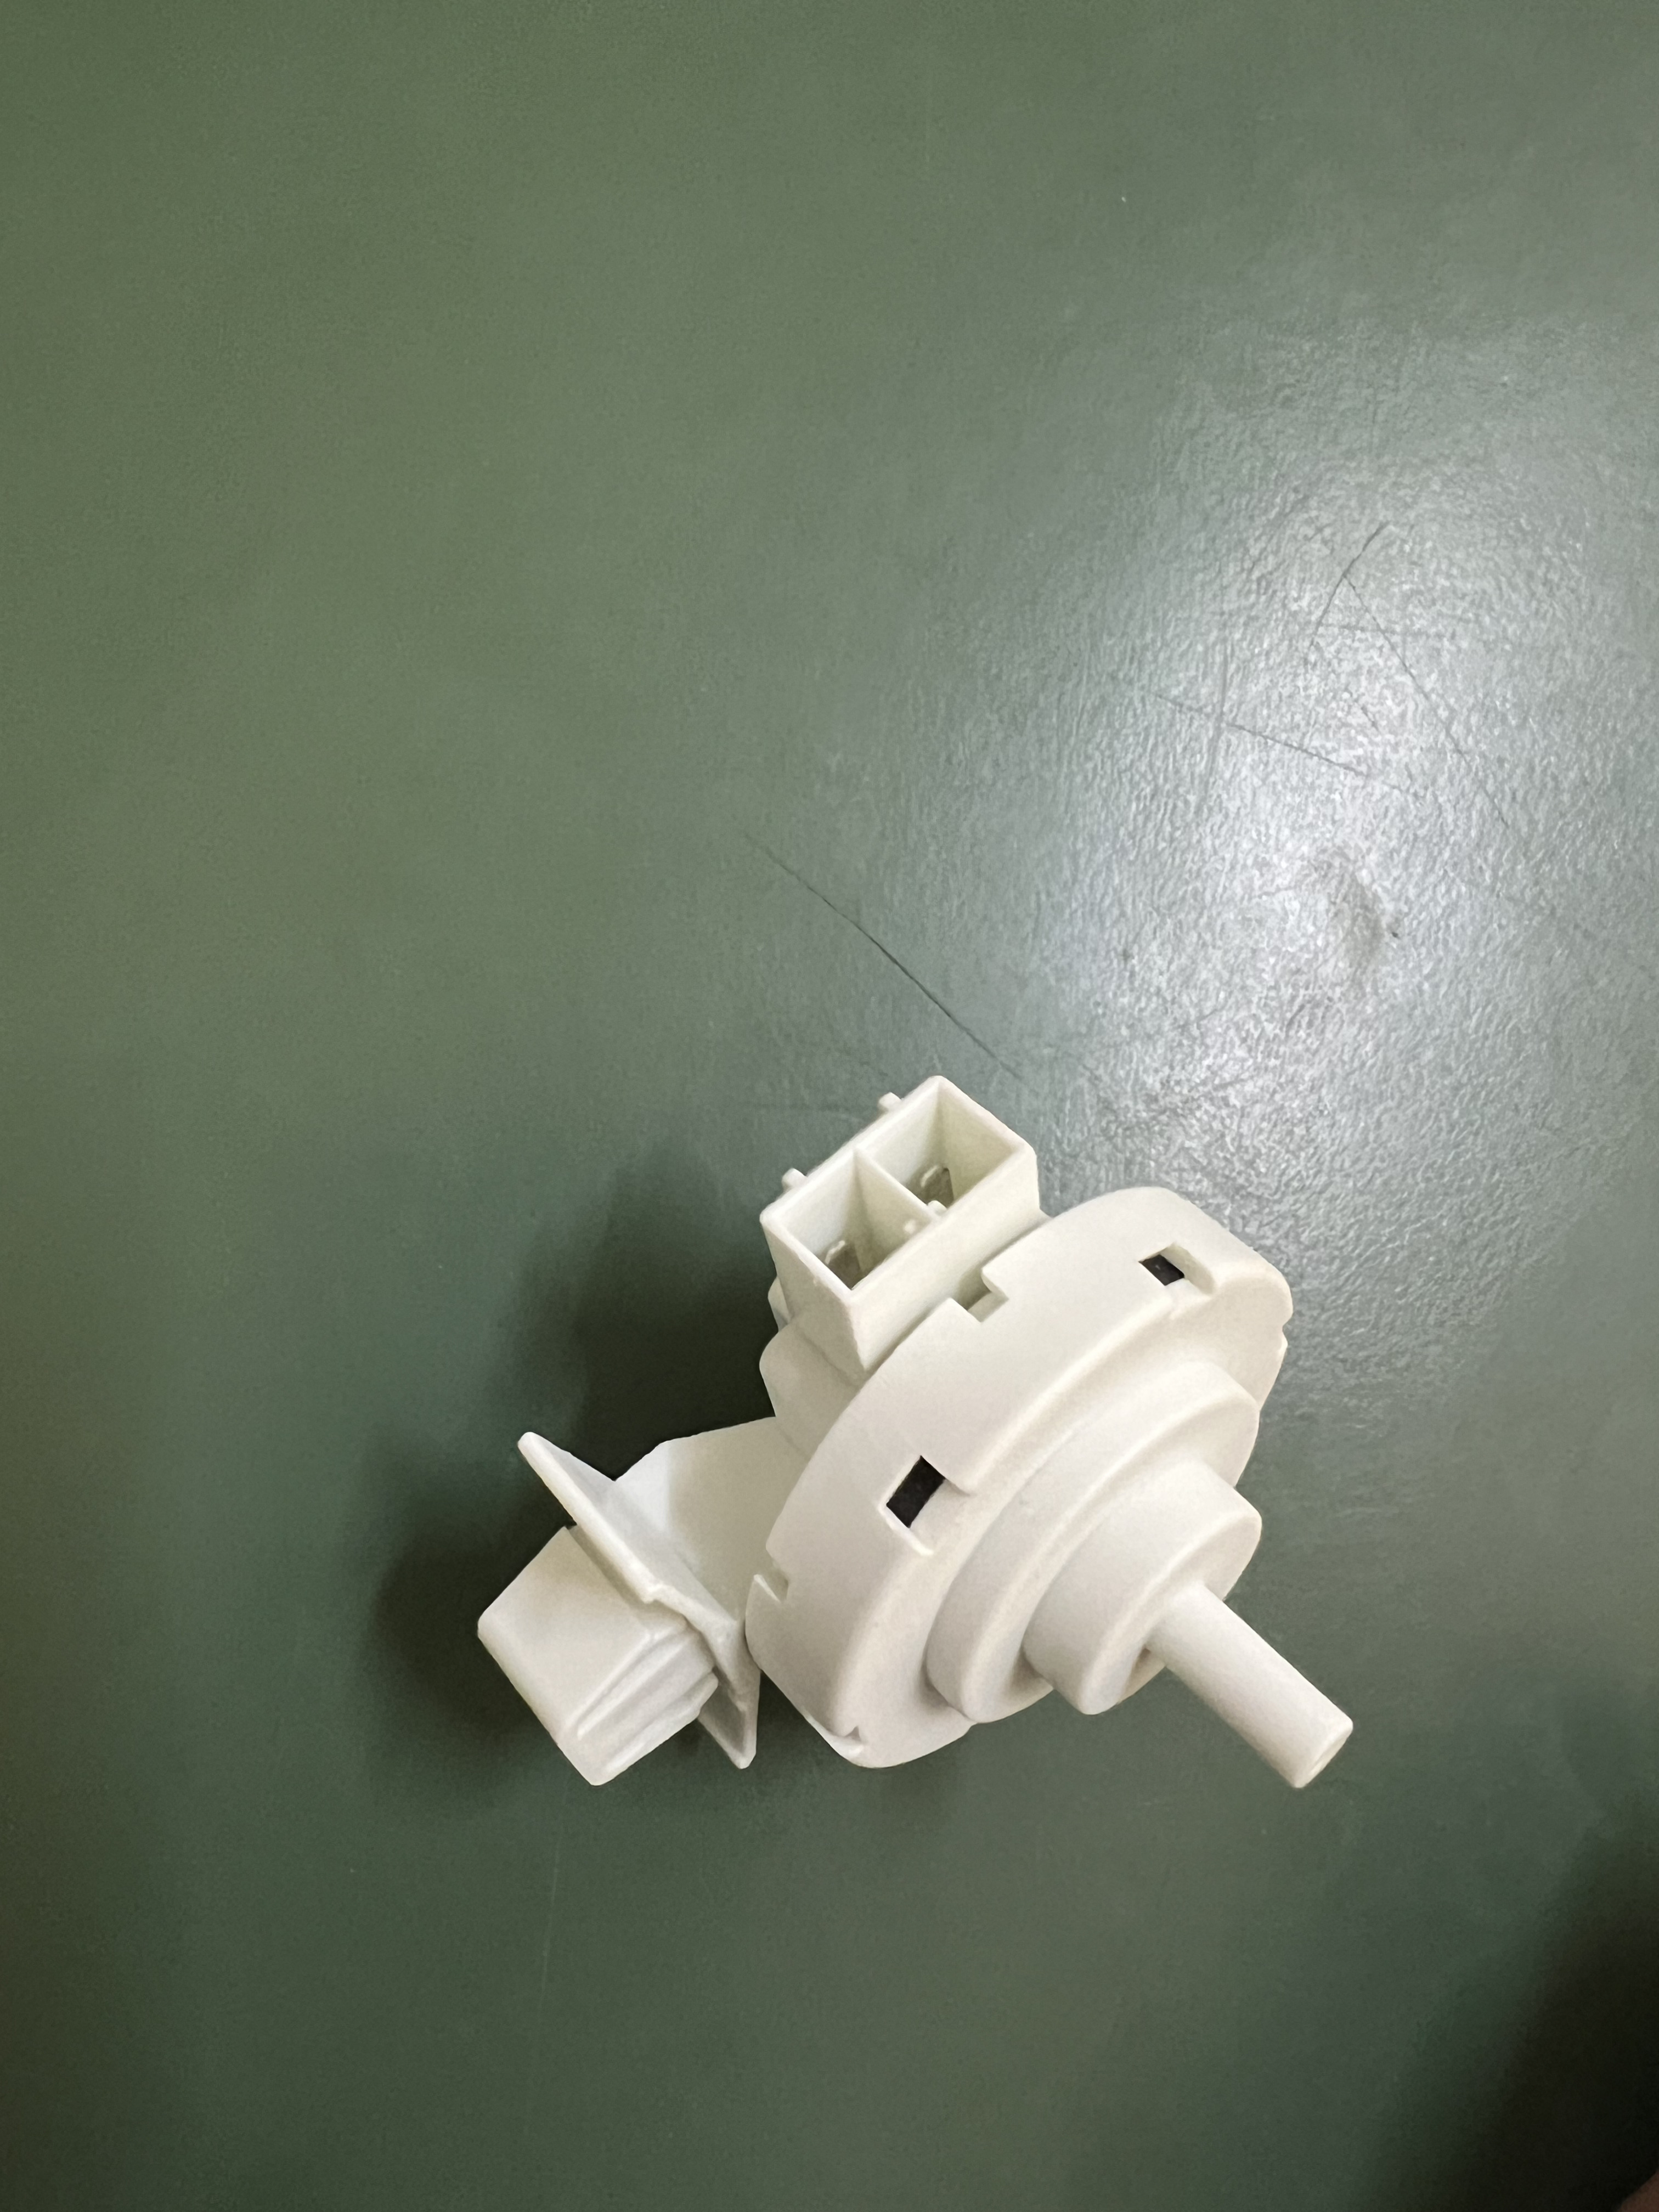pressure_switch_2: (413, 1057, 1436, 1818)
